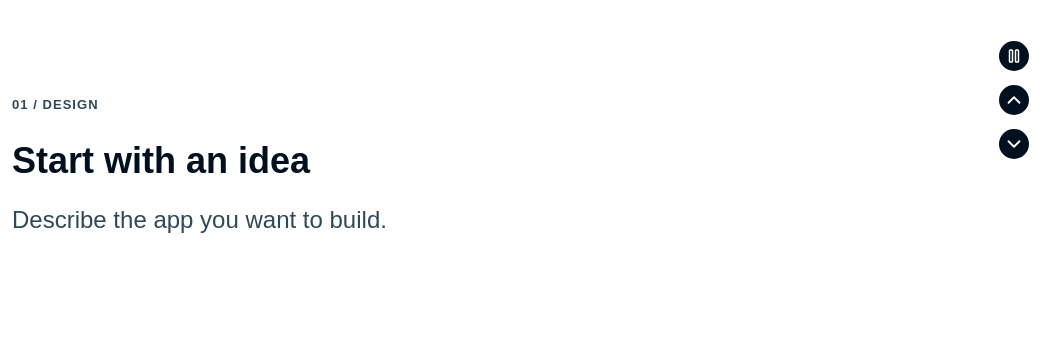
Test: LimeCarousel › does not turn a pointer Pause into Play when the same click enters focus
Click the button named "Pause Build stories" at (1014, 56), box [992, 34, 1036, 78]
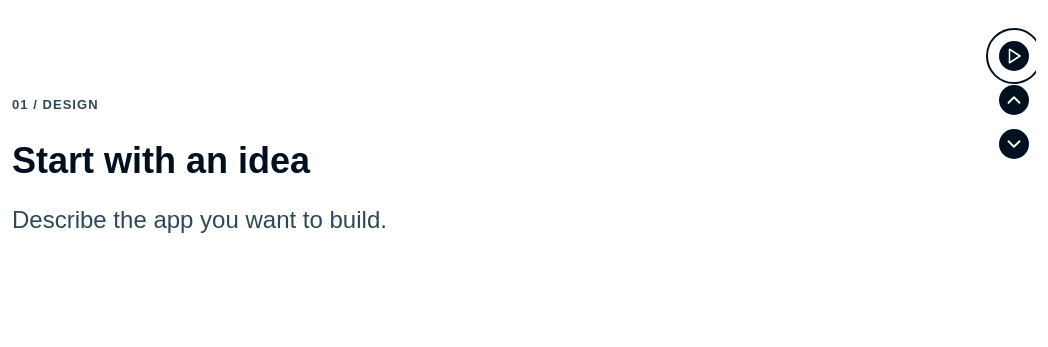
Move the pointer off the element named "Build stories"
Expected: the heading "Start with an idea" is shown, [12, 140, 310, 181]
Click the button named "Play Build stories" at (1014, 56), box [992, 34, 1036, 78]
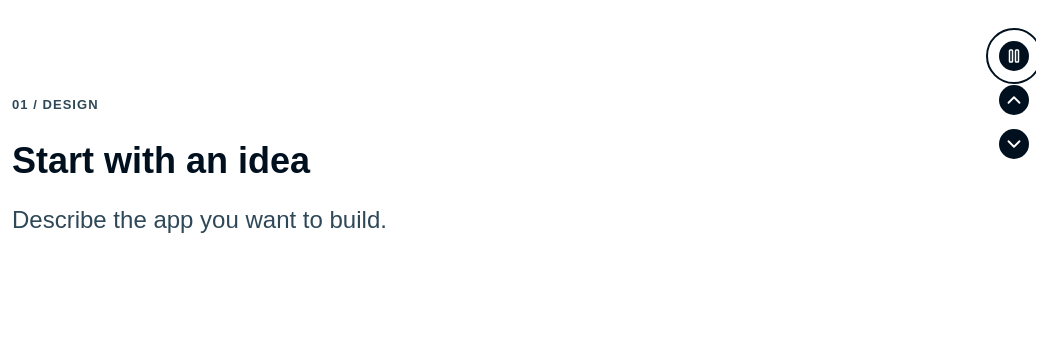
Move the pointer off the element named "Build stories"
Wait 4000 ms
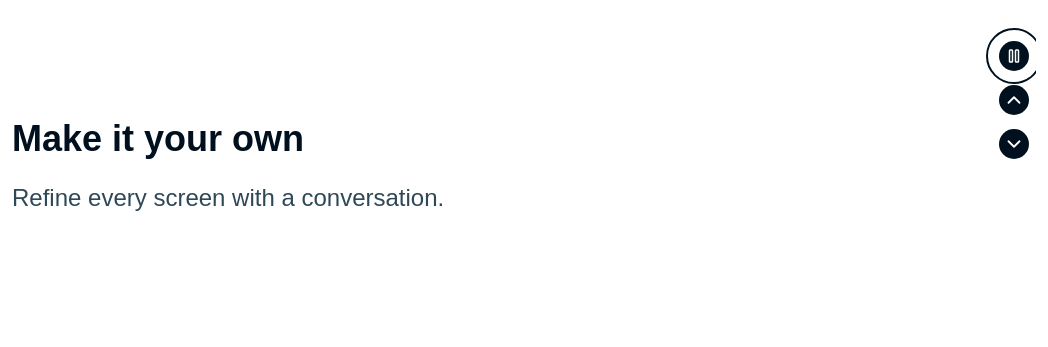
Expected: the heading "Make it your own" is shown, [12, 118, 304, 159]
